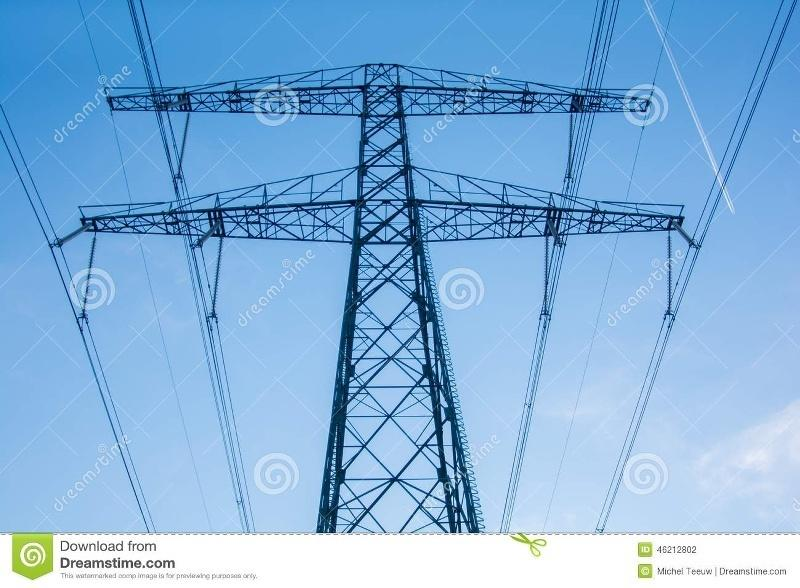power_tower: (96, 40, 650, 511)
